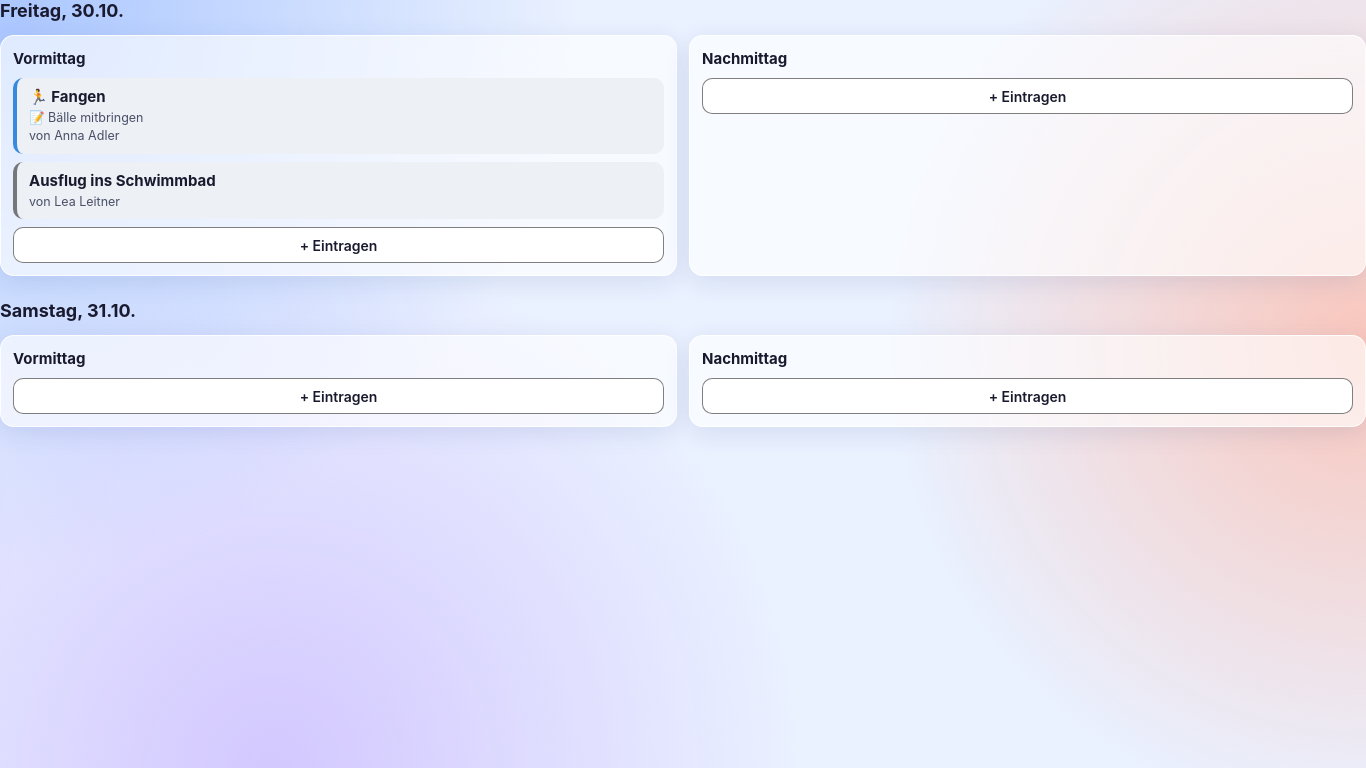
Wochenplan: TeamerIn › trägt einen Katalog-Punkt ein; Freitext gibt es für TeamerInnen nicht
Expected: the text "🏃 Fangen" is shown, top-left (29, 87), bottom-right (106, 106)
Click the 3rd button "+ Eintragen" at (338, 396), box top-left (13, 378), bottom-right (664, 414)
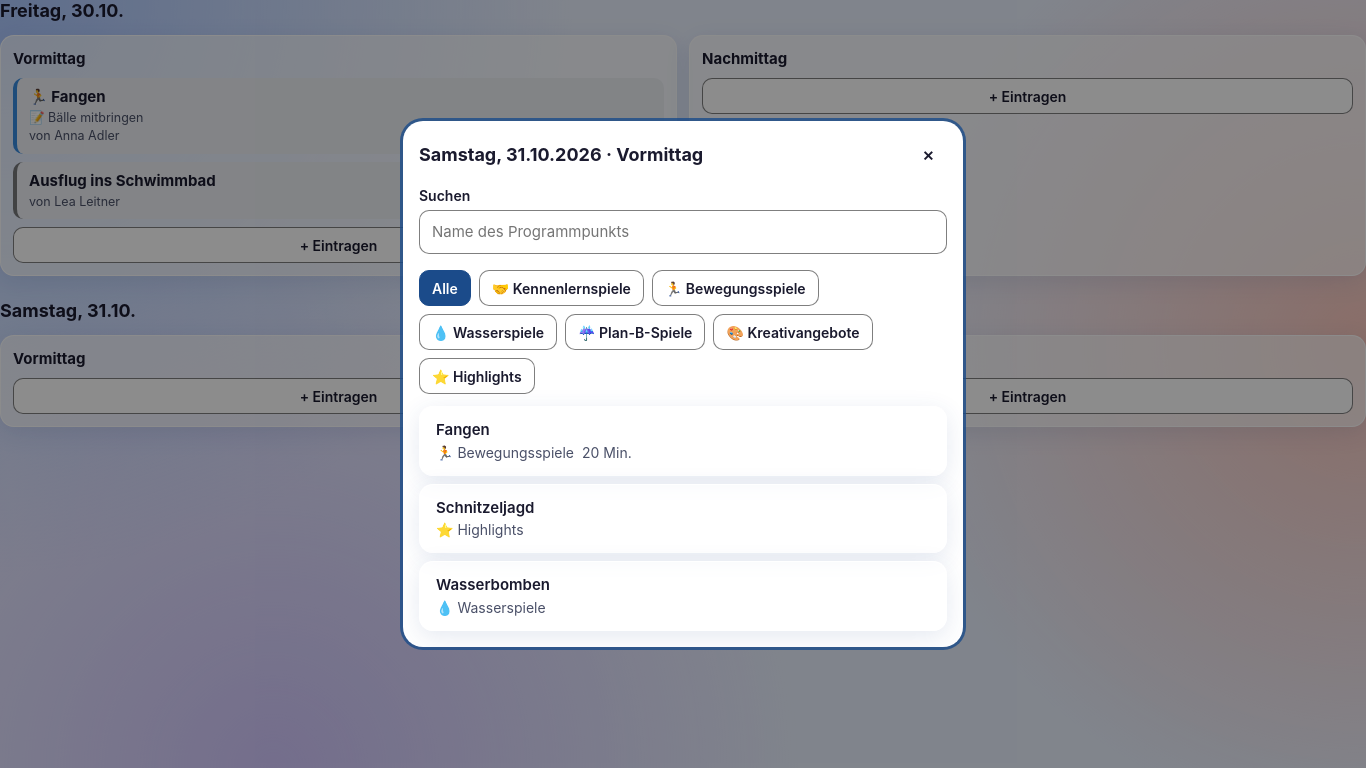
Click the button "Schnitzeljagd ⭐ Highlights" at (485, 507), box top-left (419, 484), bottom-right (947, 553)
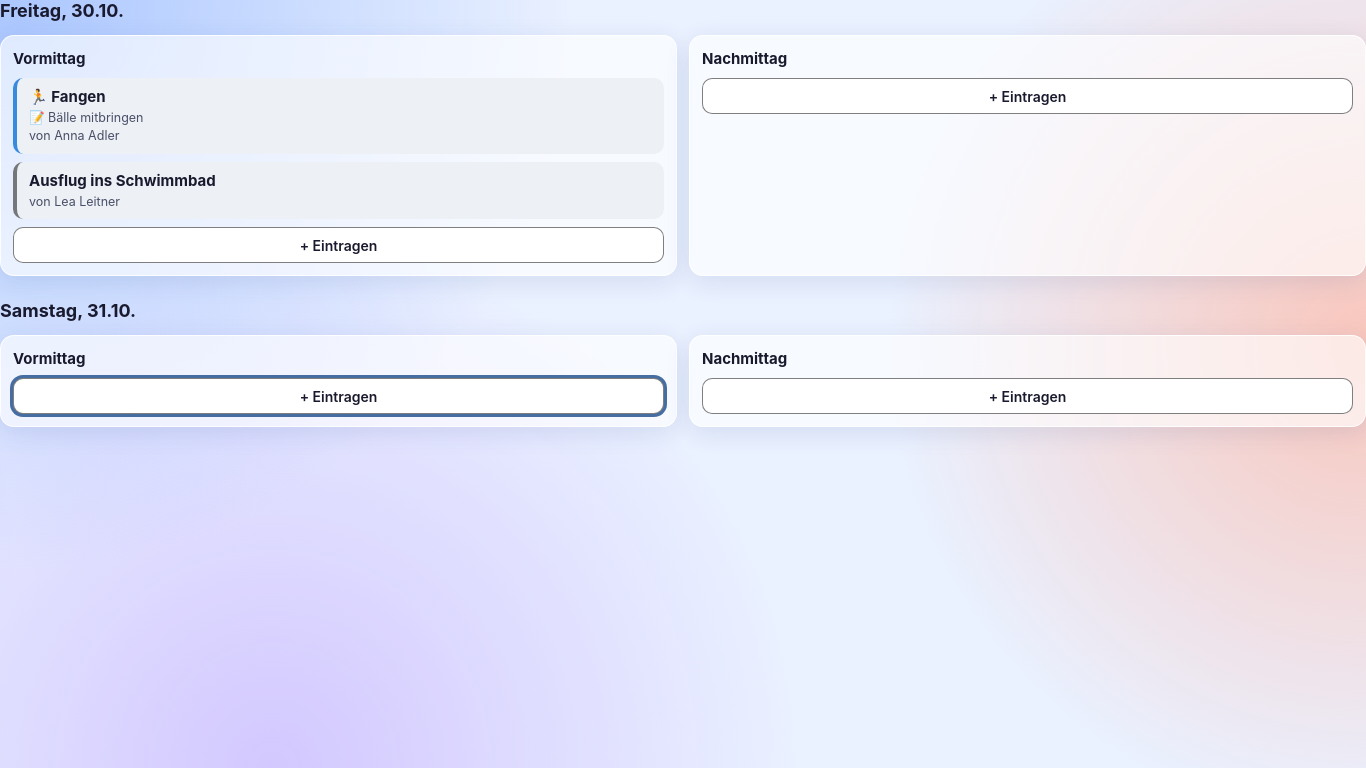
Expected: the dialog is gone
